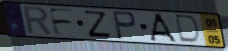A: (149, 13, 179, 44)
D: (175, 13, 202, 45)
F: (47, 7, 76, 37)
P: (111, 10, 139, 41)
R: (21, 5, 55, 37)
Z: (83, 10, 114, 40)
